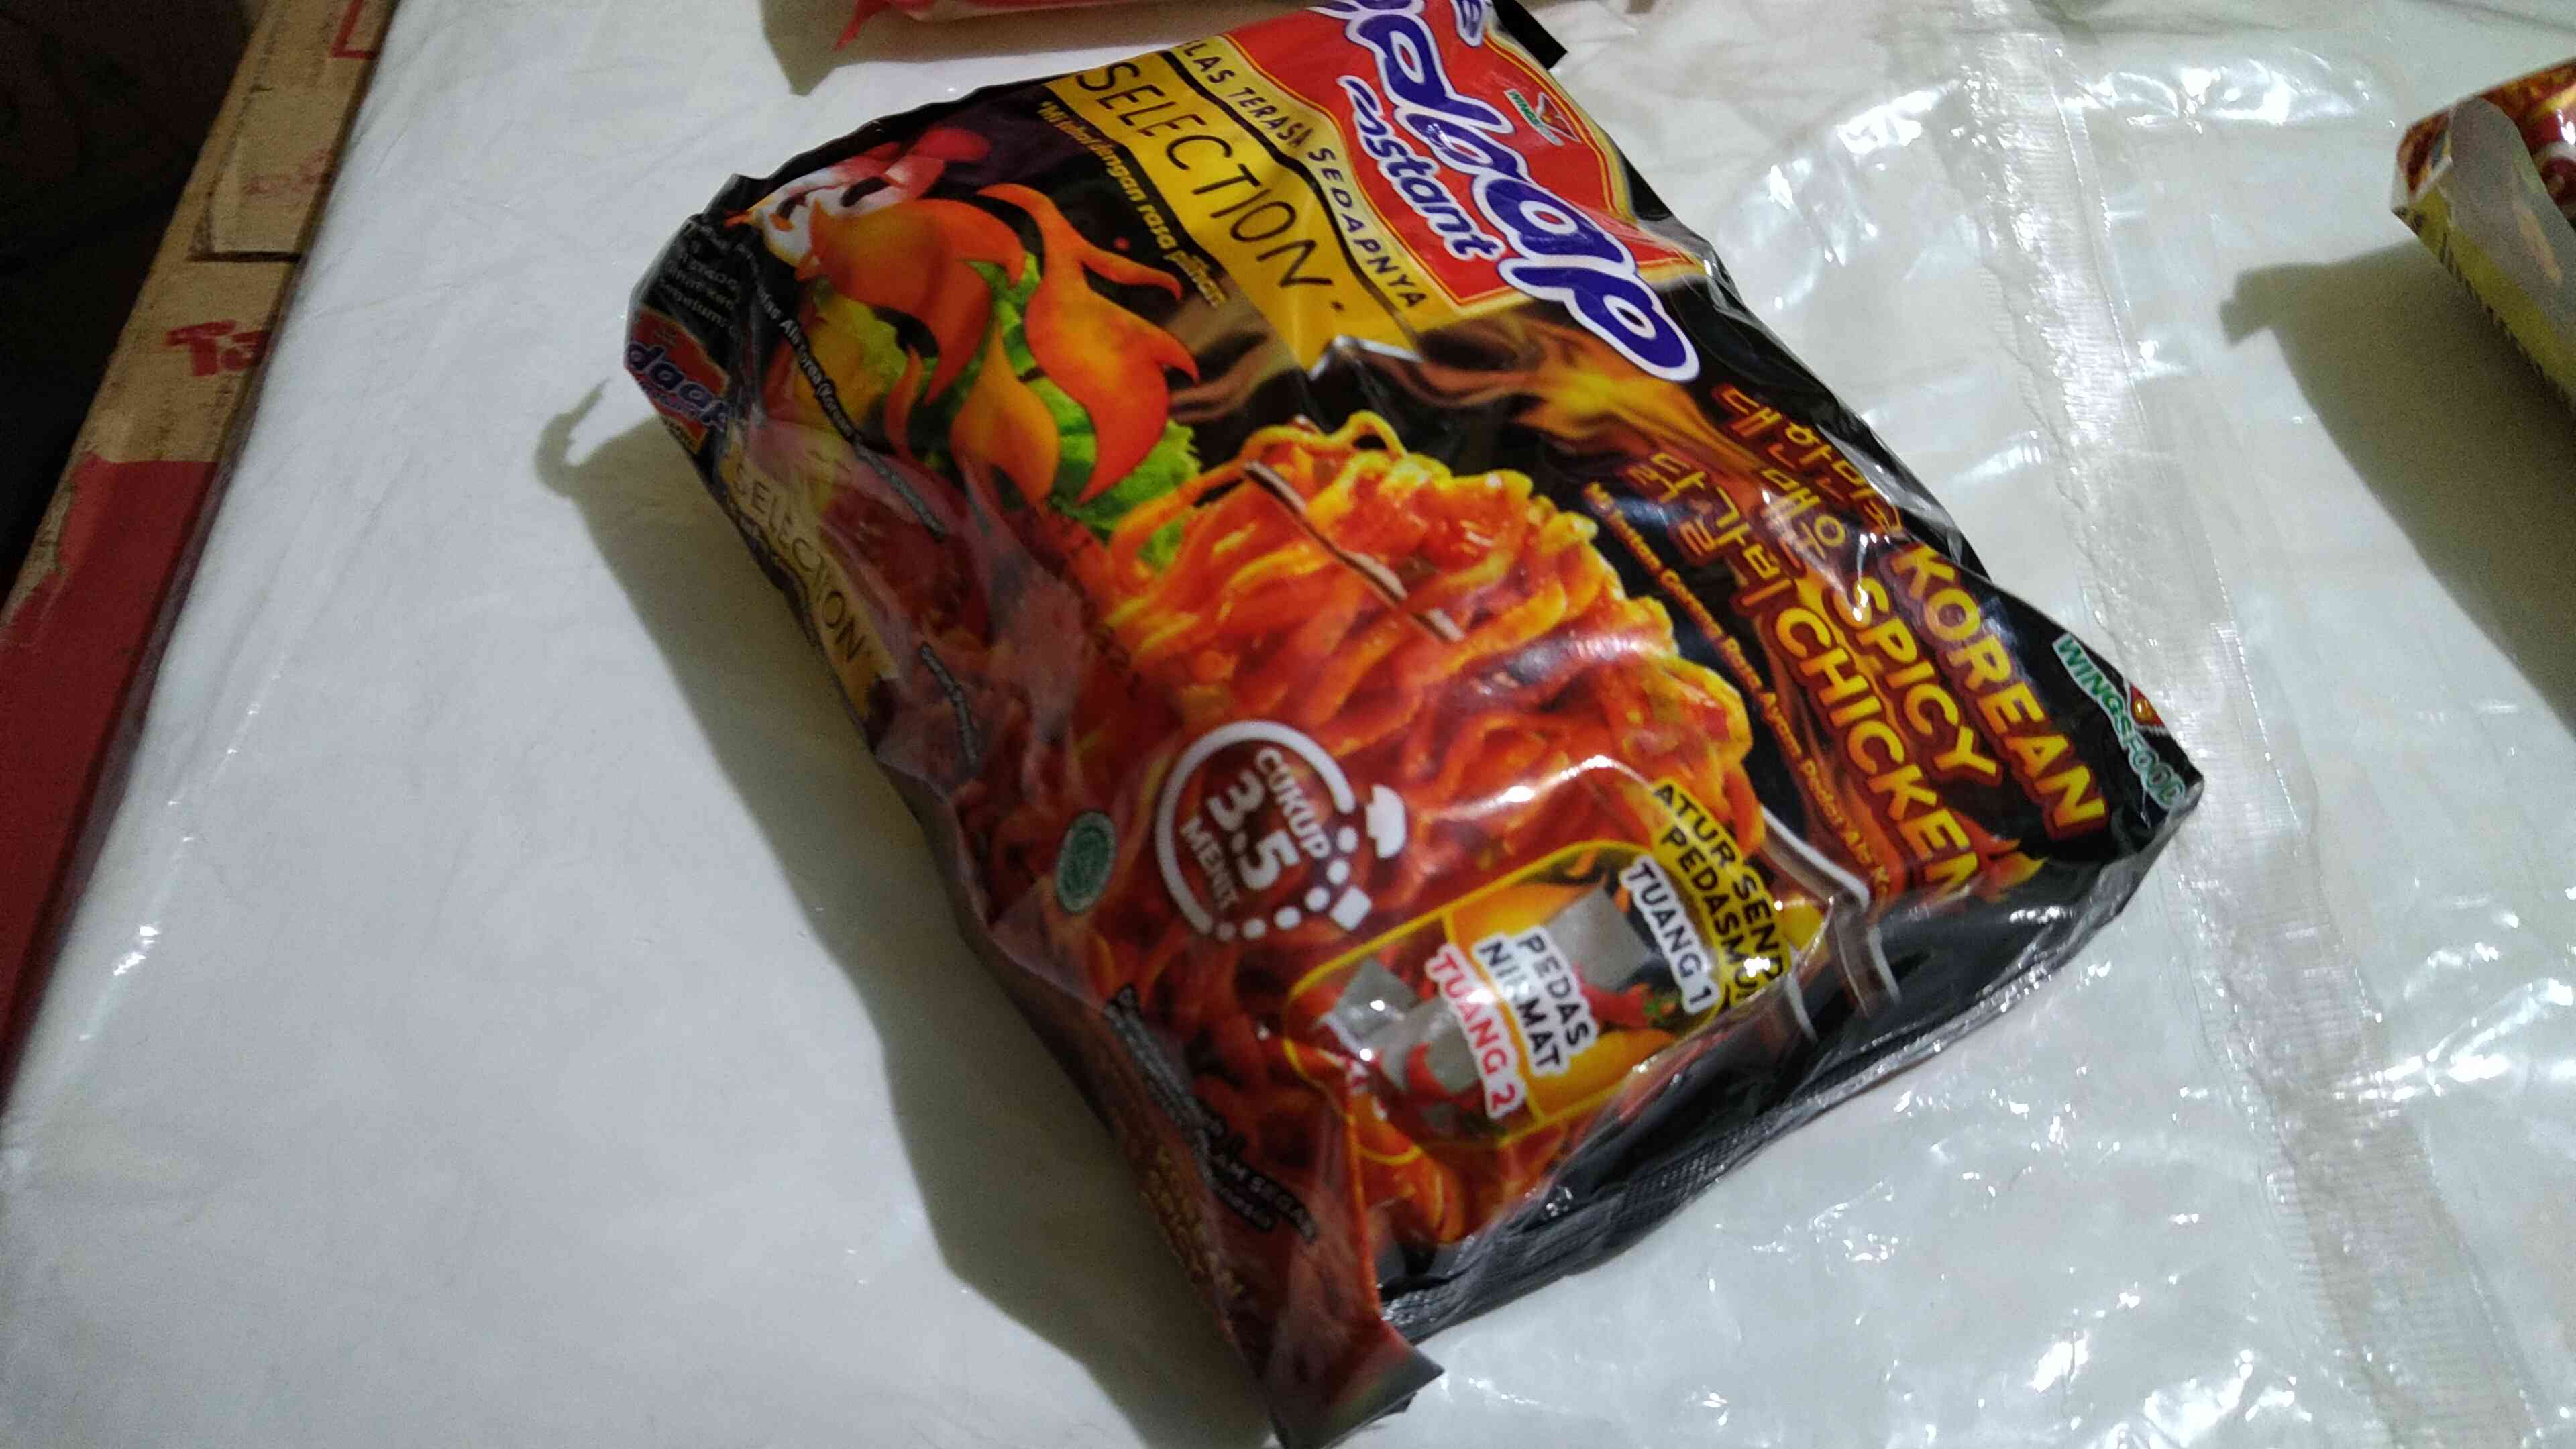sedaap spicy: (610, 62, 2155, 1207)
